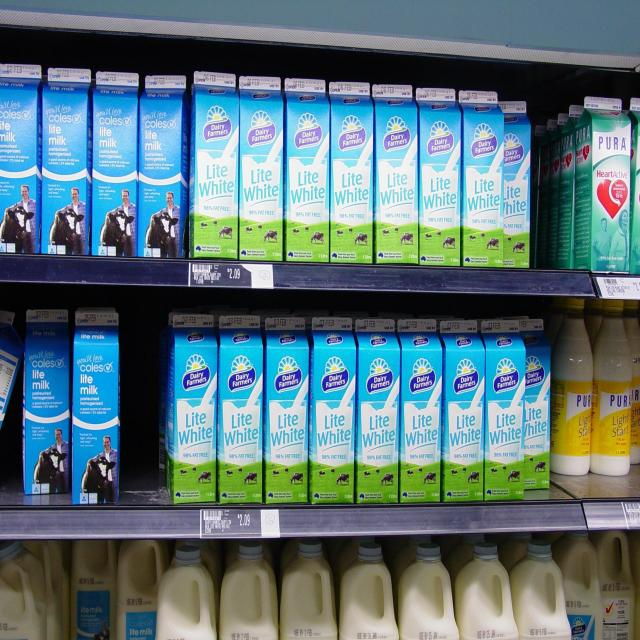void: (121, 334, 161, 488), (532, 120, 553, 264)
